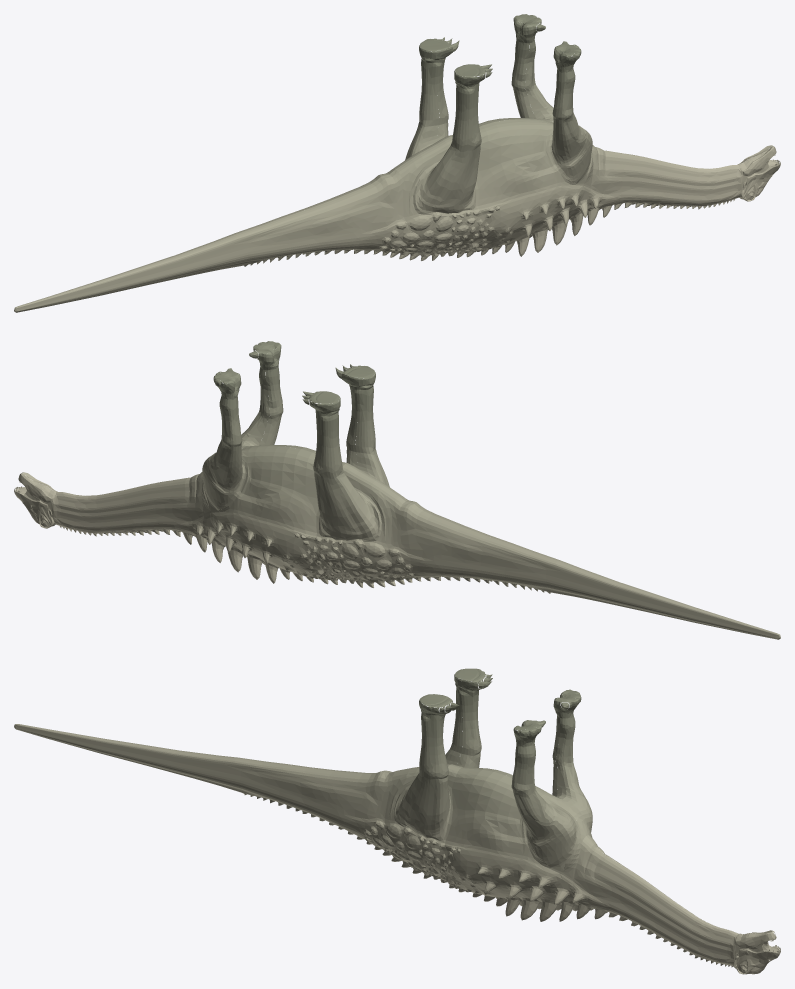
Rendered from ampelosaurus.glb.
The picture shows the model from 3 angles, top to bottom: view 1: azimuth 30°, elevation 25°; view 2: azimuth 150°, elevation 25°; view 3: azimuth 330°, elevation 25°; orthographic projection.
Visible parts, largest first — view 1: world; view 2: world; view 3: world.
Boxes of the visible parts, box(x1,y1,x2,y2) form: world: box(14, 14, 780, 312); world: box(14, 341, 780, 639); world: box(14, 668, 780, 974).
Bounding box in the file's own units: 10 × 2.67 × 1.26.
